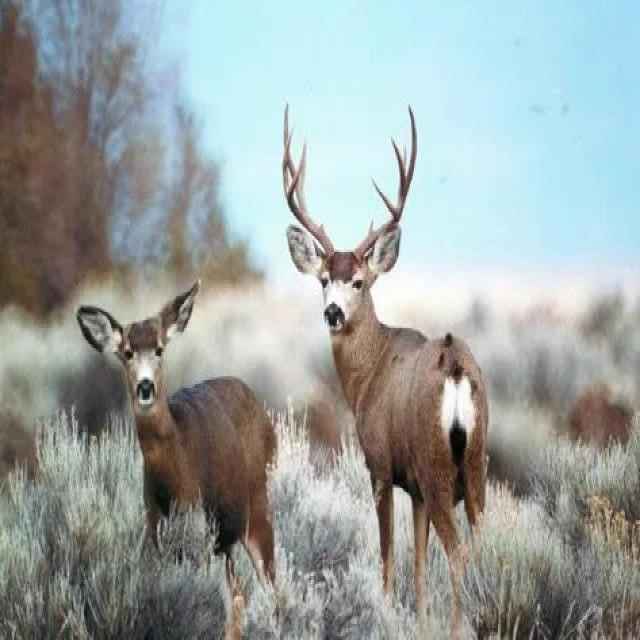deer: (270, 106, 498, 593), (91, 269, 326, 606)
